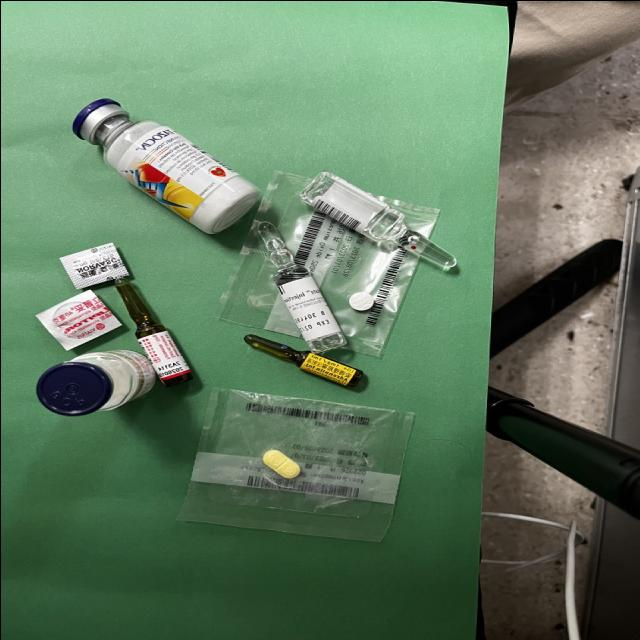Ampoules: (299, 170, 455, 270), (256, 220, 346, 352), (115, 280, 191, 386), (244, 334, 363, 387)
Vials: (72, 98, 259, 233), (36, 349, 156, 415)
